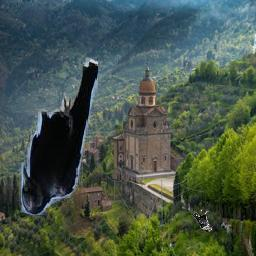Crow: (20, 55, 99, 215), (192, 208, 213, 232)
